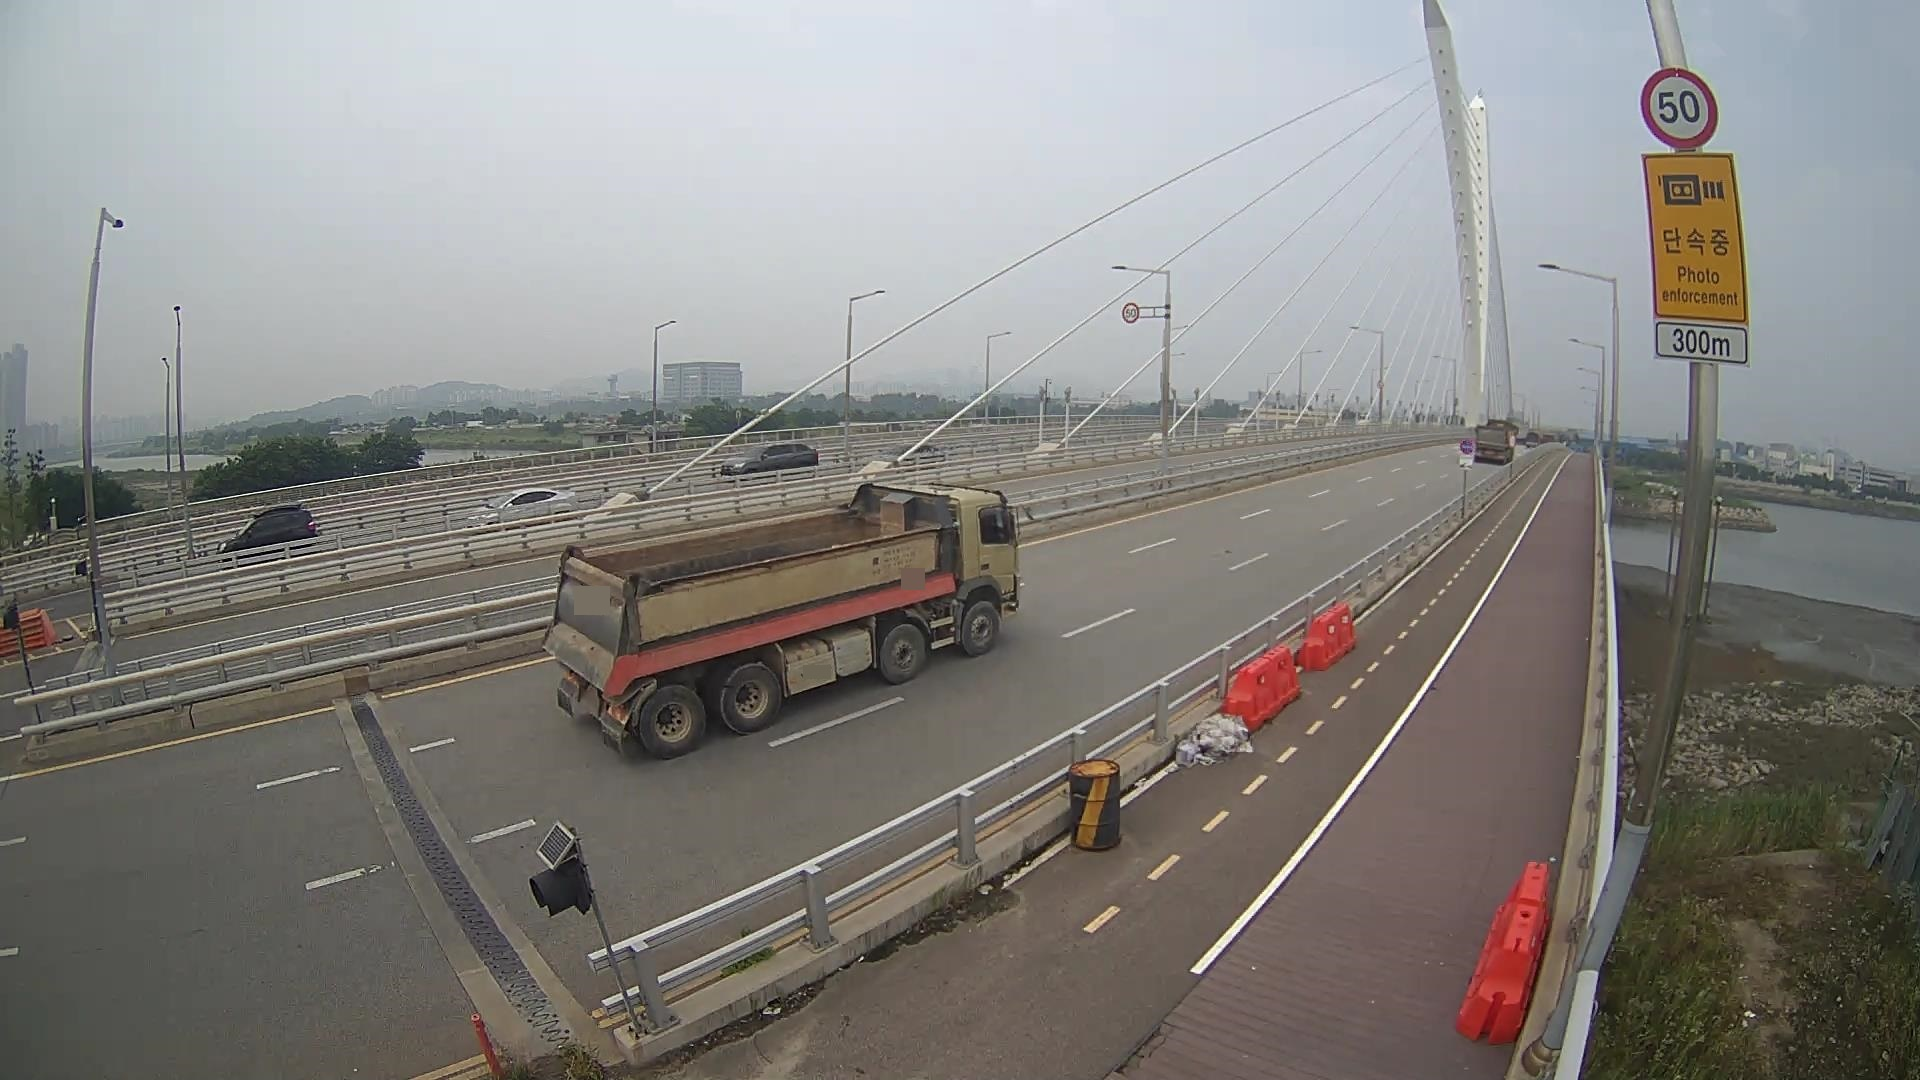정상차량: (542, 481, 1034, 760)
